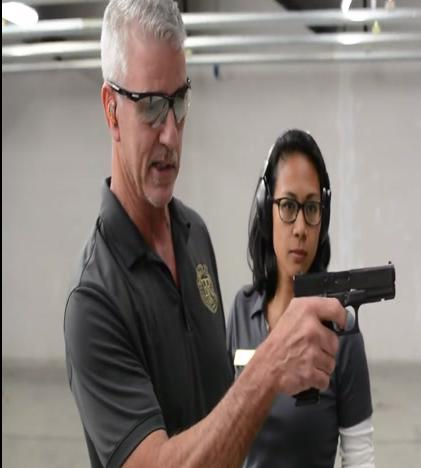pistol: (290, 263, 398, 401)
